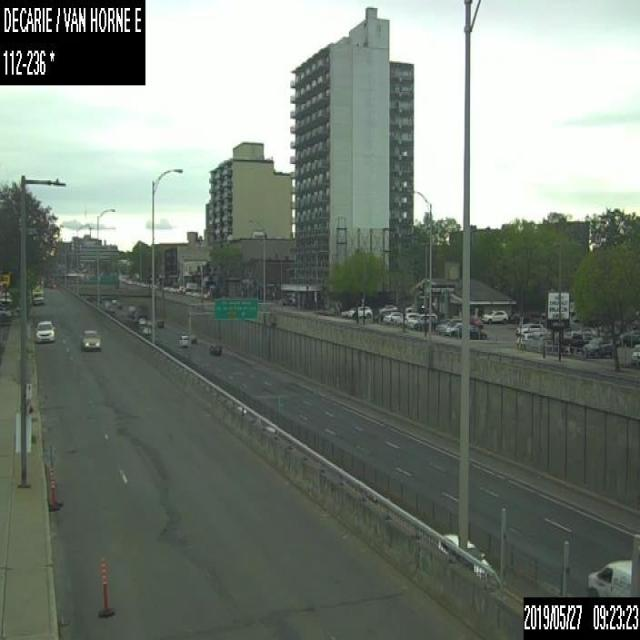construction: (96, 555, 115, 617), (47, 467, 60, 509)
vehicle: (437, 531, 494, 584), (586, 557, 631, 596), (581, 335, 615, 357), (453, 323, 487, 339), (80, 326, 101, 351), (407, 312, 436, 330), (34, 318, 54, 342), (480, 309, 508, 324), (344, 304, 372, 318), (434, 318, 461, 332), (562, 330, 584, 346), (516, 322, 543, 335), (516, 332, 535, 348), (443, 320, 461, 335), (376, 303, 396, 315), (30, 286, 43, 304), (384, 310, 401, 323), (177, 332, 188, 347), (631, 343, 639, 362), (209, 340, 220, 353), (138, 316, 146, 324), (189, 333, 196, 342)
